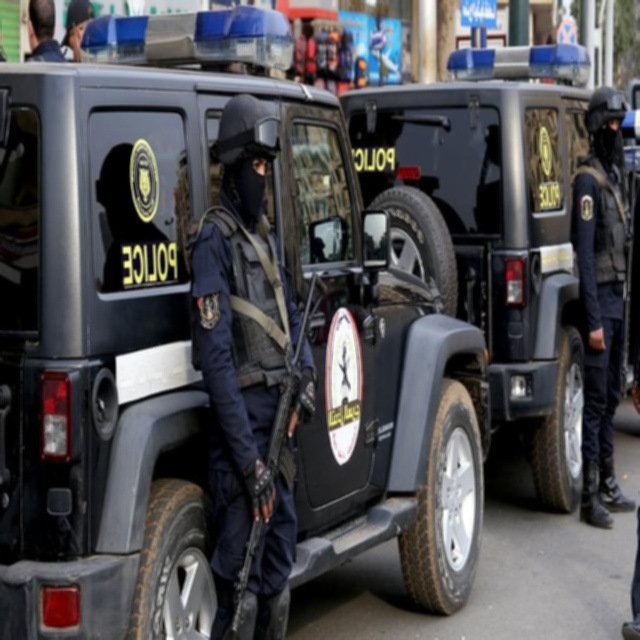person: (187, 92, 319, 639), (571, 84, 637, 529), (24, 0, 67, 62), (60, 0, 96, 62)
police-car: (1, 7, 491, 638), (334, 28, 625, 427)
